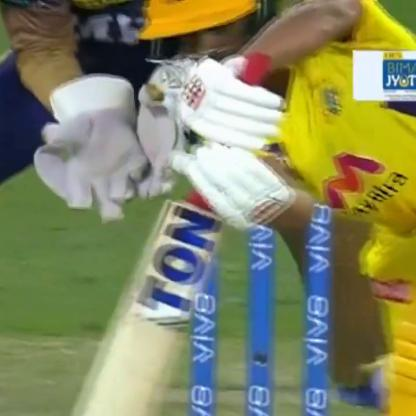bat: (80, 157, 282, 416)
